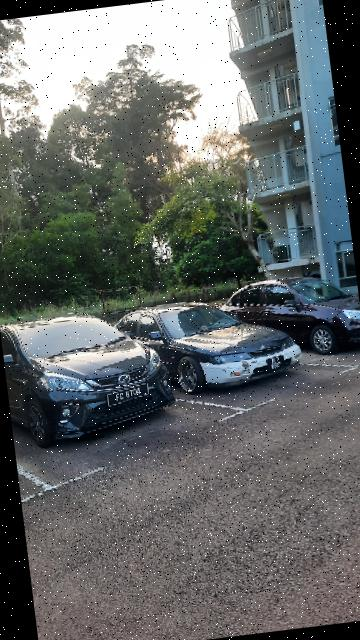License_Plate: (100, 382, 156, 408), (266, 355, 287, 373)
car: (1, 299, 182, 451), (106, 286, 311, 403), (218, 267, 360, 370)
